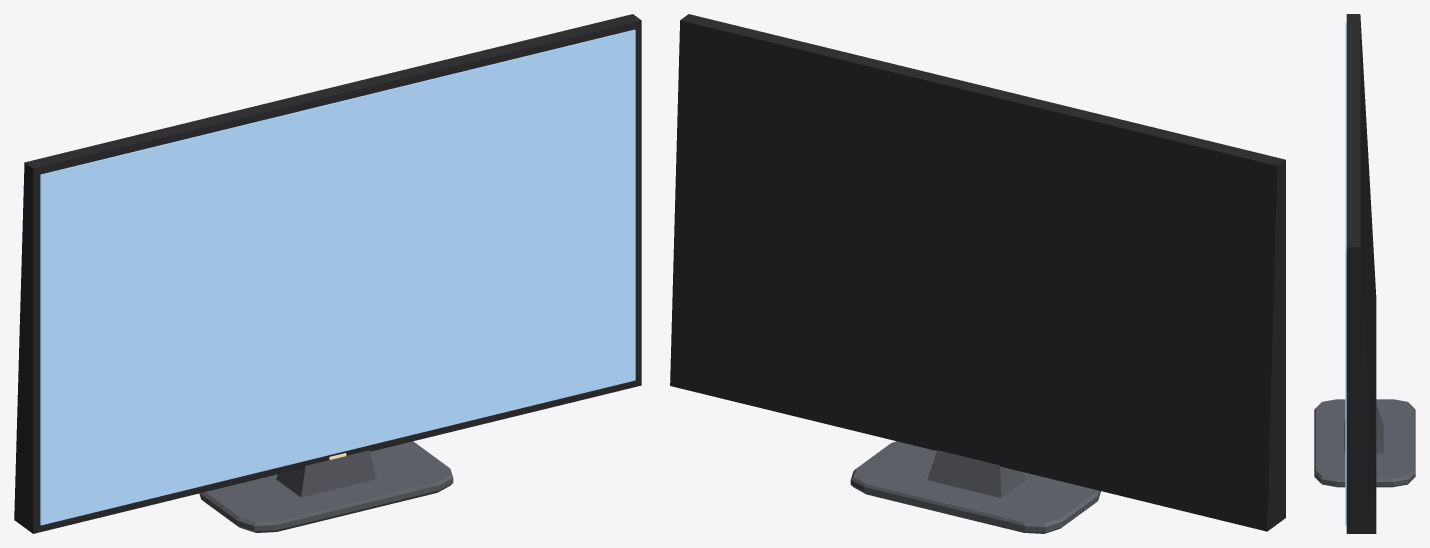
The model's file is FN_TV_Flatscreen.glb.
3 renders of one model, left to right at view 1: azimuth 30°, elevation 25°; view 2: azimuth 150°, elevation 25°; view 3: azimuth 270°, elevation 25°, orthographic. The views are drawn at different scales.
Parts seen in each view (by area): view 1: FN_TV_Flatscreen; view 2: FN_TV_Flatscreen; view 3: FN_TV_Flatscreen.
Part boxes in pixels (x1=…): FN_TV_Flatscreen: x1=14, y1=14, x2=641, y2=533; FN_TV_Flatscreen: x1=670, y1=14, x2=1285, y2=533; FN_TV_Flatscreen: x1=1314, y1=14, x2=1415, y2=533.
Size of the model in its own units: 1.2 by 0.76 by 0.22.
2 materials, 2 textured.
